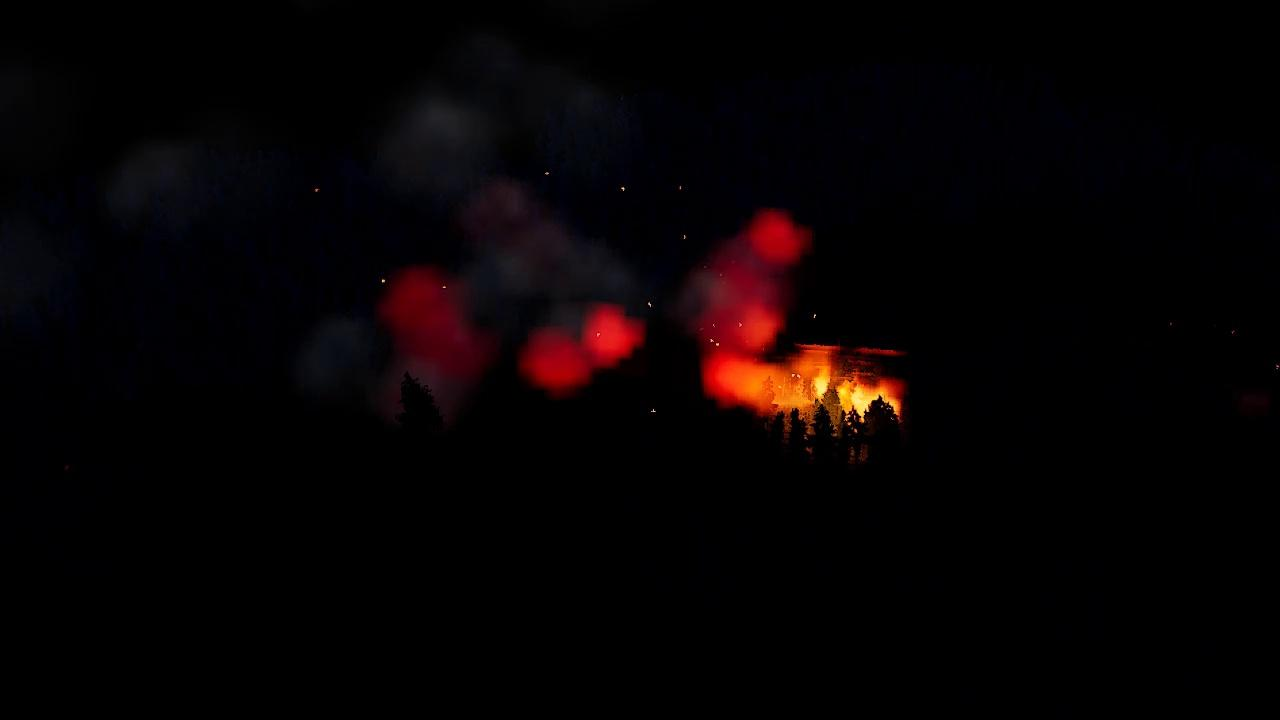fire: (700, 346, 903, 421)
smoke: (382, 88, 651, 407), (679, 208, 810, 382)
